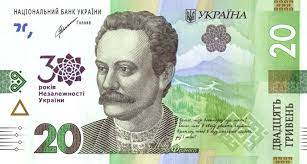bn_20: (0, 1, 307, 163)
